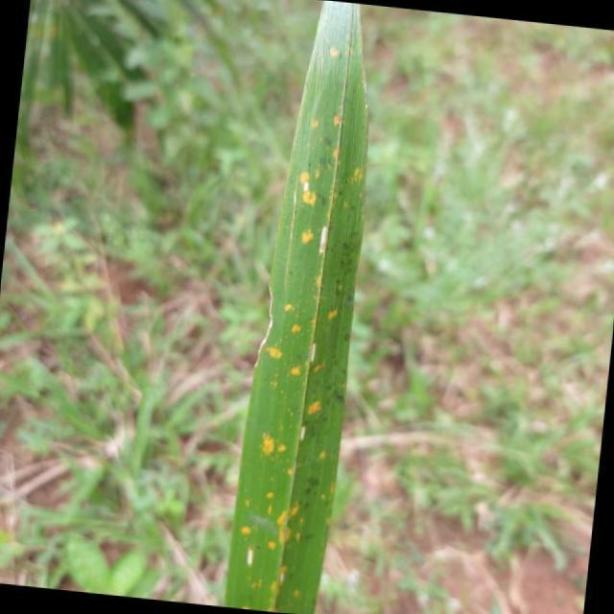Kalium: (226, 0, 369, 614)
